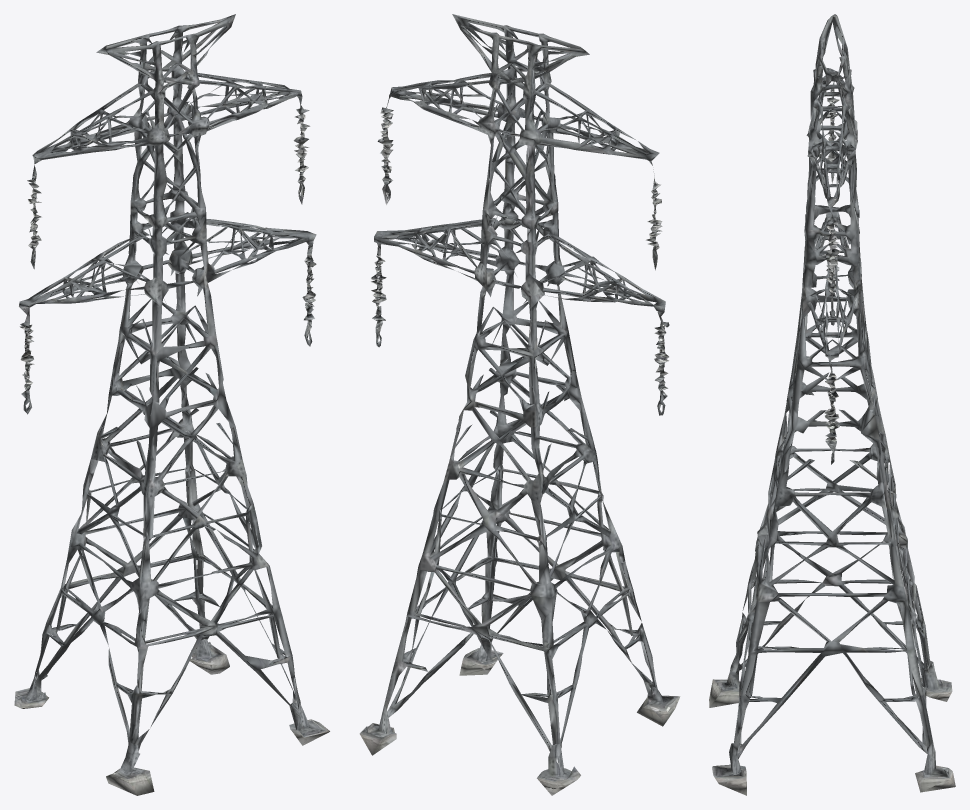
Rendered from transmission_tower.glb.
3 views of the same model, side by side, from view 1: azimuth 30°, elevation 25°; view 2: azimuth 150°, elevation 25°; view 3: azimuth 270°, elevation 25° (orthographic).
Bounding box in the file's own units: 0.8404 × 1.9 × 0.6049.
1 material, 1 textured.
